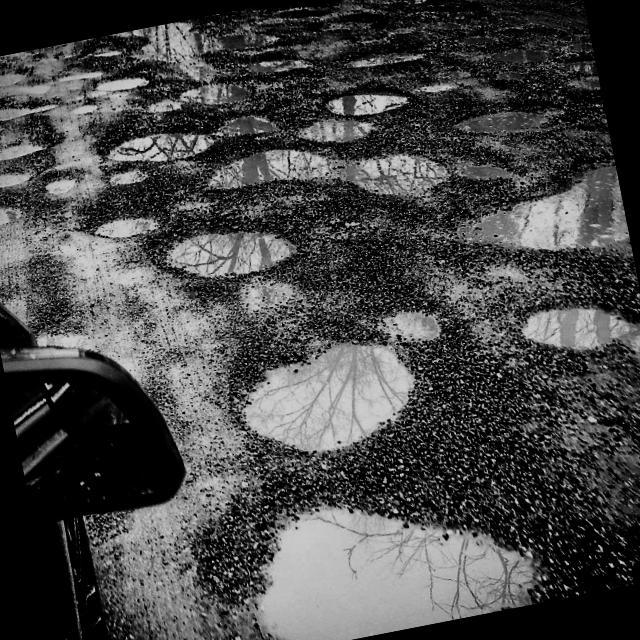Pothole: (224, 471, 551, 640), (227, 301, 464, 488), (198, 111, 462, 242), (458, 161, 633, 285), (499, 277, 640, 404), (101, 6, 272, 110), (154, 214, 303, 321), (354, 0, 506, 75), (283, 93, 384, 161), (108, 122, 222, 172), (315, 83, 418, 135), (451, 96, 556, 145), (215, 98, 291, 148), (333, 38, 427, 76), (405, 49, 479, 97), (442, 145, 527, 185), (92, 205, 168, 248), (311, 8, 396, 46), (548, 52, 602, 106), (238, 42, 314, 80), (0, 89, 55, 138), (265, 0, 375, 24), (484, 40, 560, 74), (81, 71, 147, 103), (32, 168, 82, 210), (0, 134, 48, 175), (0, 58, 39, 107), (100, 159, 156, 191), (0, 191, 35, 234), (0, 165, 40, 200), (78, 46, 130, 70), (62, 96, 100, 124)
